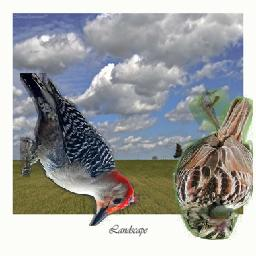Sparrow: (173, 88, 254, 241)
Woodpecker: (20, 74, 140, 227)
